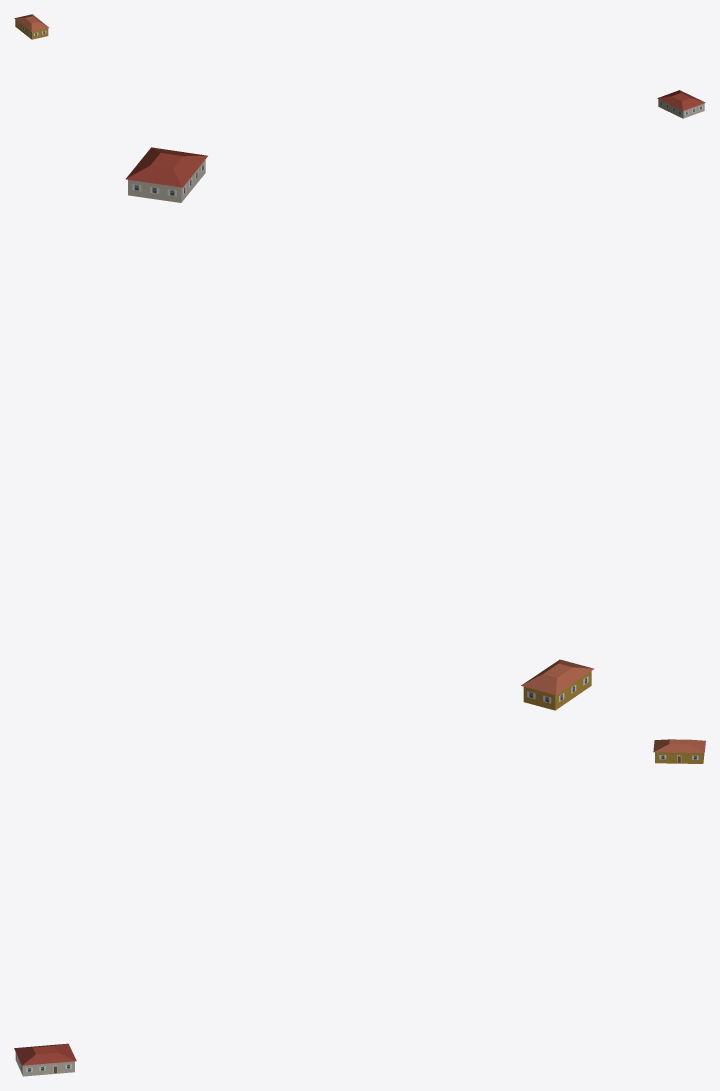
File: msb_sannicolas_23_22.glb
The picture shows the model from 3 angles, top to bottom: view 1: azimuth 30°, elevation 25°; view 2: azimuth 150°, elevation 25°; view 3: azimuth 270°, elevation 25°; orthographic projection. The views are drawn at different scales.
Parts seen in each view (by area): view 1: msb_sannicolas_23_22_lod0; view 2: msb_sannicolas_23_22_lod0; view 3: msb_sannicolas_23_22_lod0.
Part boxes in pixels (x1,y1,x2,y2): msb_sannicolas_23_22_lod0: (14, 14, 705, 118); msb_sannicolas_23_22_lod0: (126, 147, 594, 710); msb_sannicolas_23_22_lod0: (14, 739, 705, 1076).
Size of what is drawn, in the model's own units: 198 by 10.96 by 190.
2 materials, 1 textured.
